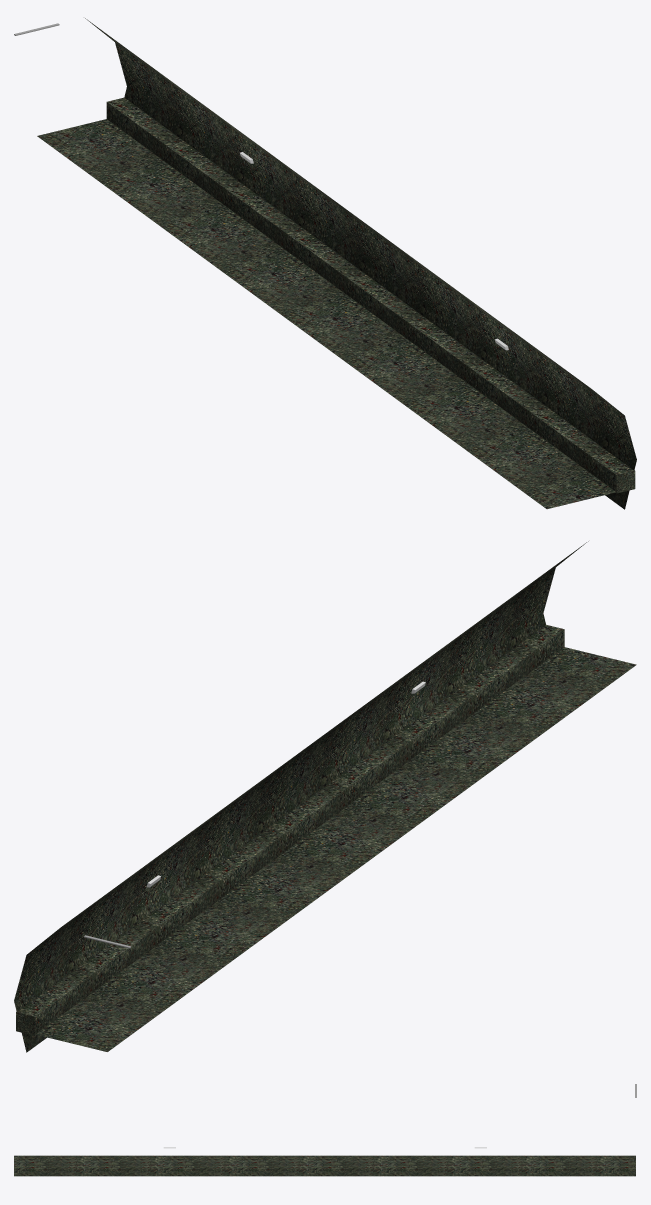
File: OUSA00_L.glb
The picture shows the model from 3 angles, top to bottom: view 1: azimuth 30°, elevation 25°; view 2: azimuth 150°, elevation 25°; view 3: azimuth 270°, elevation 25°; orthographic projection. The views are drawn at different scales.
Parts seen in each view (by area): view 1: Model; view 2: Model; view 3: Model.
Boxes of the visible parts, left/top/right/bottom form: Model: left=37, top=18, right=636, bottom=509; Model: left=14, top=541, right=636, bottom=1052; Model: left=14, top=1155, right=635, bottom=1176.
Bounding box in the file's own units: 12.71 × 15.31 × 100.
Materials: 4 (1 with a texture image).
